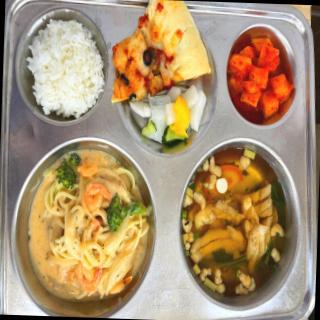Nasi: (27, 15, 106, 119)
